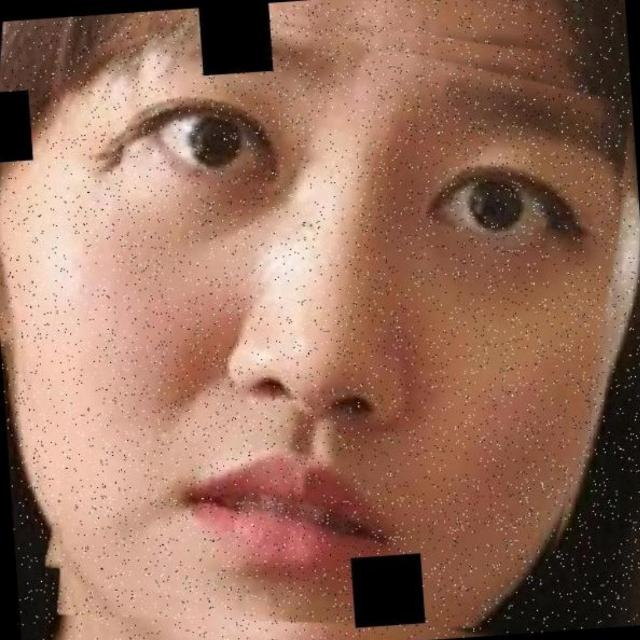Disgust: (82, 6, 612, 640)
